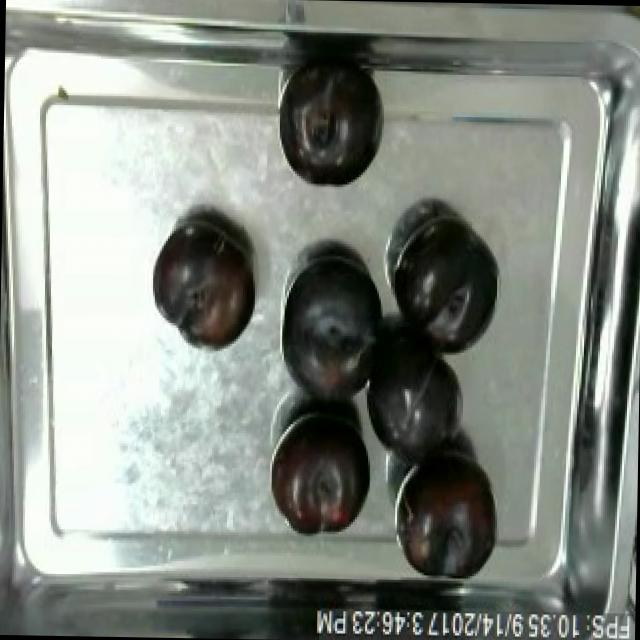Fruit: (383, 212, 508, 363), (276, 245, 392, 402), (353, 321, 472, 472), (390, 445, 506, 589), (150, 215, 262, 354), (266, 401, 376, 542), (278, 61, 386, 192)
